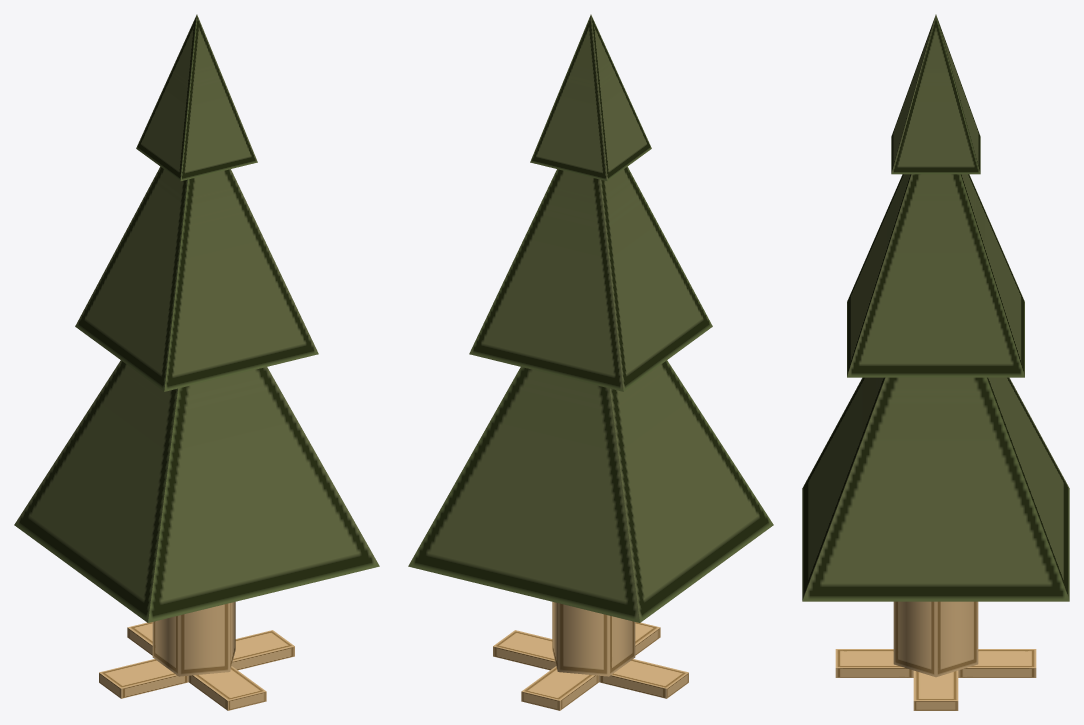
Rendered from Tree007.FBX.
3 renders of one model, left to right at view 1: azimuth 30°, elevation 25°; view 2: azimuth 150°, elevation 25°; view 3: azimuth 270°, elevation 25°, orthographic.
Visible parts, largest first — view 1: tree007; view 2: tree007; view 3: tree007.
Part boxes in pixels (<box>): tree007: <box>14,14,379,710</box>; tree007: <box>408,14,773,710</box>; tree007: <box>802,14,1069,710</box>.
Bounding box in the file's own units: 120 × 324 × 120.
1 material, 1 textured.
